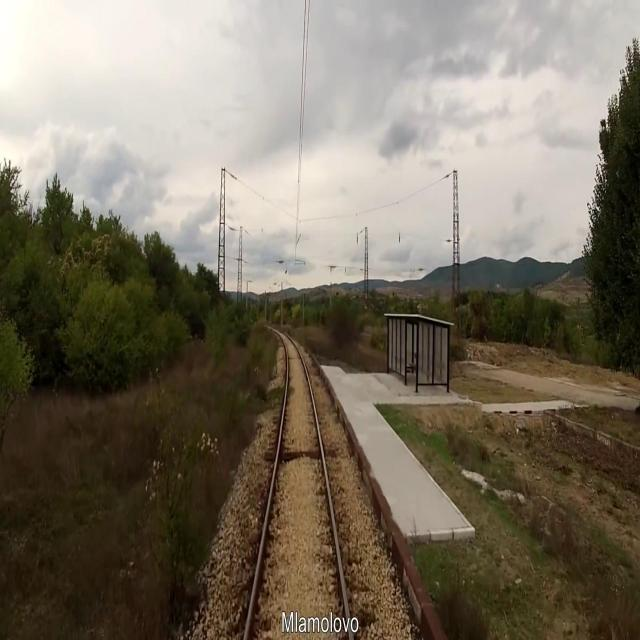rail-track: (248, 334, 348, 639)
